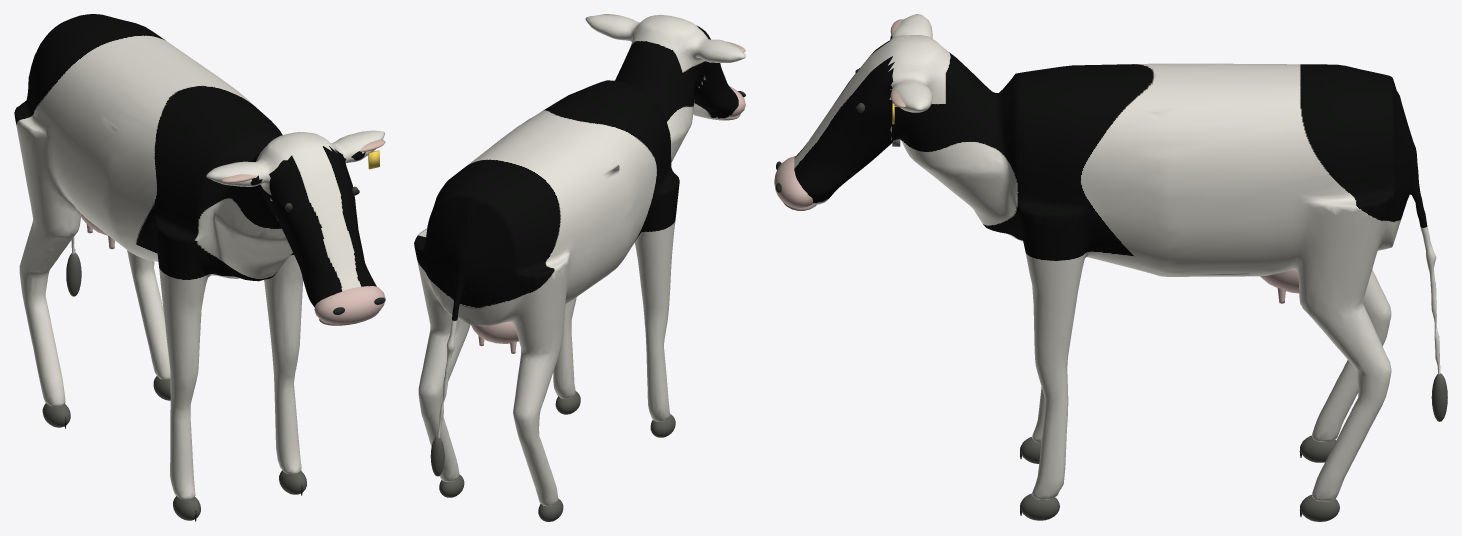
The model's file is cow_holstein.glb.
3 renders of one model, left to right at view 1: azimuth 30°, elevation 25°; view 2: azimuth 150°, elevation 25°; view 3: azimuth 270°, elevation 25°, orthographic. The views are drawn at different scales.
Visible parts, largest first — view 1: continuous_skin_0, muzzle_1, tail_switch_20, hoof_9, hoof_7, hoof_15; view 2: continuous_skin_0, udder_21, tail_switch_20, hoof_7, hoof_15, hoof_9, hoof_17; view 3: continuous_skin_0, muzzle_1, hoof_15, hoof_17.
Part boxes in pixels (bbox=[...]): continuous_skin_0: bbox=[14, 14, 384, 499]; muzzle_1: bbox=[314, 286, 385, 324]; tail_switch_20: bbox=[66, 252, 81, 296]; hoof_9: bbox=[42, 403, 70, 427]; hoof_7: bbox=[173, 496, 200, 520]; hoof_15: bbox=[279, 470, 306, 494]; continuous_skin_0: bbox=[414, 14, 745, 506]; udder_21: bbox=[470, 322, 518, 343]; tail_switch_20: bbox=[430, 437, 444, 476]; hoof_7: bbox=[650, 414, 675, 437]; hoof_15: bbox=[555, 391, 580, 414]; hoof_9: bbox=[538, 498, 563, 521]; hoof_17: bbox=[439, 474, 464, 497]; continuous_skin_0: bbox=[794, 14, 1440, 501]; muzzle_1: bbox=[774, 156, 812, 207]; hoof_15: bbox=[1020, 493, 1059, 520]; hoof_17: bbox=[1300, 494, 1339, 521].
Size of the model in its own units: 0.7567 by 1.66 by 2.26.
9 materials, 1 textured.
